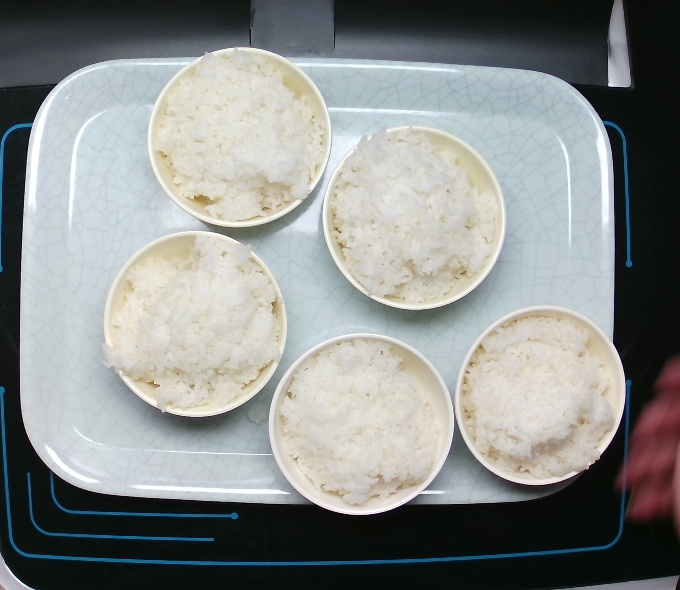wcq-MiFan: (108, 233, 292, 410), (269, 343, 450, 511), (322, 130, 503, 298), (148, 51, 329, 219), (462, 312, 624, 482)
